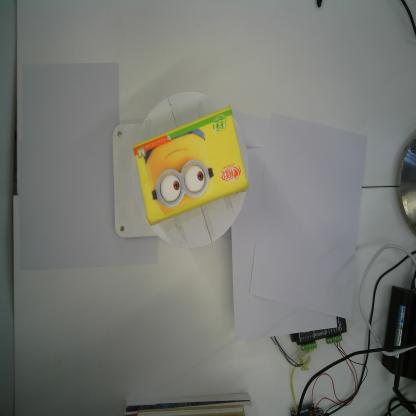Tissue: (132, 105, 250, 228)
